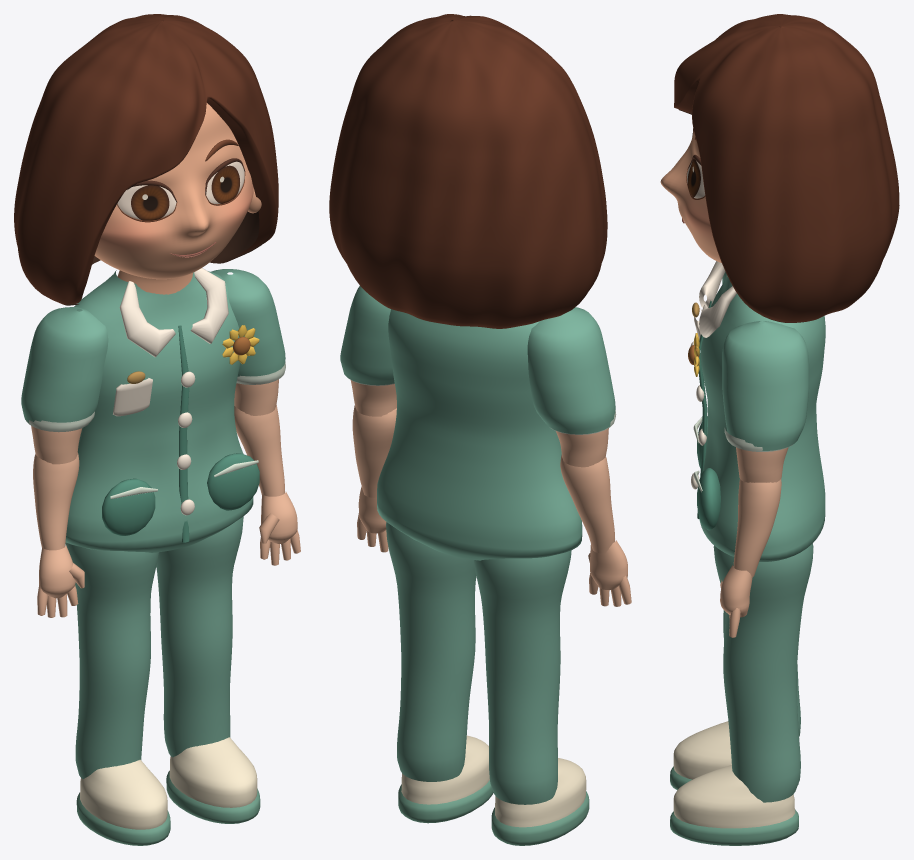
The model's file is minji-v3-face-study.glb.
The picture shows the model from 3 angles, left to right: view 1: azimuth 30°, elevation 25°; view 2: azimuth 150°, elevation 25°; view 3: azimuth 270°, elevation 25°; orthographic projection. The views are drawn at different scales.
Parts seen in each view (by area): view 1: Bob · continuous scalp and turned hem, Torso_Surface, Leg_L_Surface, Leg_R_Surface, Face · cheeks, short jaw and nose, Arm_L_Surface, Arm_R_Surface, Forearm_L_Surface, Forearm_R_Surface, Hand_L_Surface, Hand_R_Surface, Bob · dark inner lining (+4 smaller); view 2: Bob · continuous scalp and turned hem, Torso_Surface, Leg_L_Surface, Leg_R_Surface, Arm_L_Surface, Arm_R_Surface, Forearm_L_Surface, Forearm_R_Surface, Hand_L_Surface, Hand_R_Surface; view 3: Bob · continuous scalp and turned hem, Leg_R_Surface, Torso_Surface, Arm_R_Surface, Forearm_R_Surface, Leg_L_Surface, Face · cheeks, short jaw and nose, Hand_R_Surface.
Boxes of the visible parts, <box> form: Bob · continuous scalp and turned hem: <box>14,14,278,304</box>; Torso_Surface: <box>65,268,259,552</box>; Leg_L_Surface: <box>65,542,170,845</box>; Leg_R_Surface: <box>156,516,260,823</box>; Face · cheeks, short jaw and nose: <box>94,103,253,279</box>; Arm_L_Surface: <box>21,307,108,464</box>; Arm_R_Surface: <box>211,269,285,415</box>; Forearm_L_Surface: <box>33,452,79,550</box>; Forearm_R_Surface: <box>234,404,284,496</box>; Hand_L_Surface: <box>37,545,84,617</box>; Hand_R_Surface: <box>259,491,300,565</box>; Bob · dark inner lining: <box>64,181,271,305</box>; Bob · continuous scalp and turned hem: <box>329,14,607,328</box>; Torso_Surface: <box>377,309,582,560</box>; Leg_L_Surface: <box>474,550,589,845</box>; Leg_R_Surface: <box>386,522,493,823</box>; Arm_L_Surface: <box>527,307,616,467</box>; Arm_R_Surface: <box>340,286,396,416</box>; Forearm_L_Surface: <box>560,454,614,553</box>; Forearm_R_Surface: <box>352,405,396,497</box>; Hand_L_Surface: <box>588,540,631,606</box>; Hand_R_Surface: <box>357,486,388,552</box>; Bob · continuous scalp and turned hem: <box>674,14,899,322</box>; Leg_R_Surface: <box>670,543,813,845</box>; Torso_Surface: <box>688,261,825,561</box>; Arm_R_Surface: <box>722,321,809,482</box>; Forearm_R_Surface: <box>733,479,781,577</box>; Leg_L_Surface: <box>670,610,800,790</box>; Face · cheeks, short jaw and nose: <box>660,131,721,262</box>; Hand_R_Surface: <box>720,565,752,637</box>.
Bounding box in the file's own units: 0.7142 × 2.01 × 0.5498.
